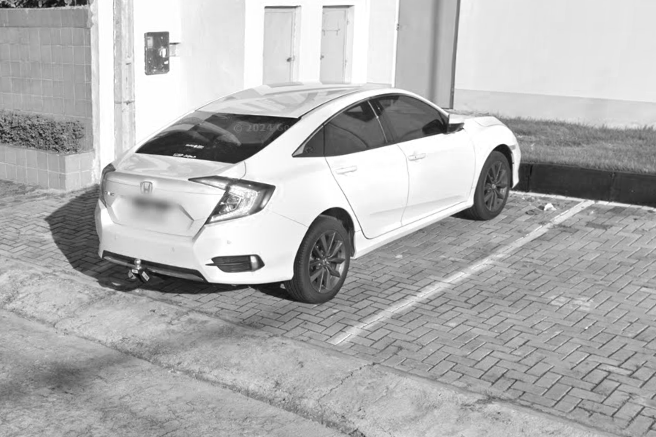car: (91, 78, 523, 309)
